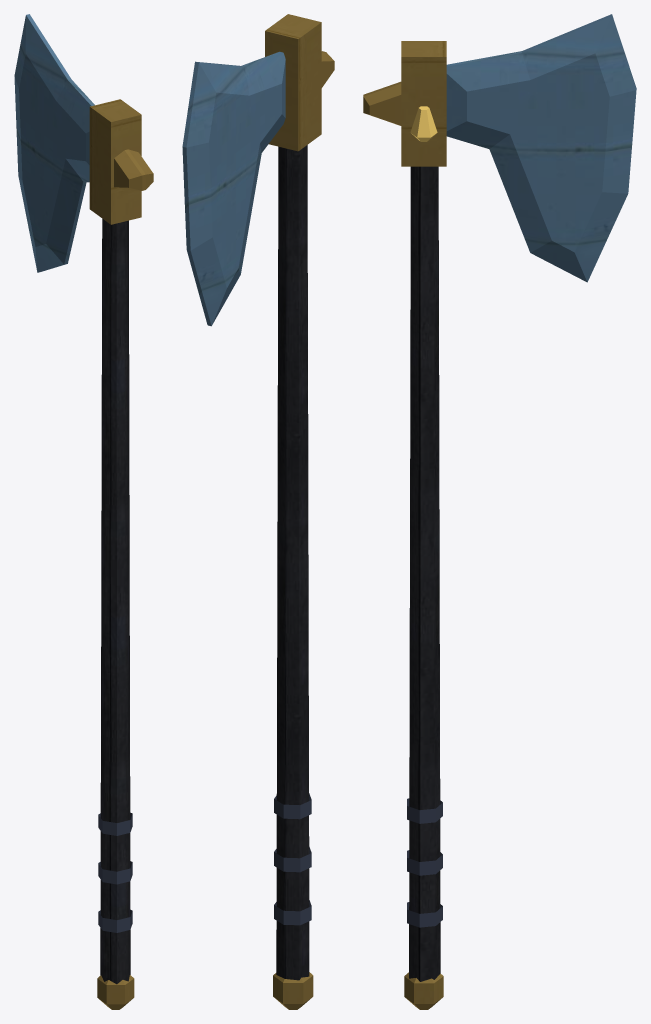
Rendered from wpn_axe_rare.glb.
3 views of the same model, side by side, from view 1: azimuth 30°, elevation 25°; view 2: azimuth 150°, elevation 25°; view 3: azimuth 270°, elevation 25° (orthographic). The views are drawn at different scales.
Parts seen in each view (by area): view 1: wpn_axe_rare; view 2: wpn_axe_rare; view 3: wpn_axe_rare.
Part boxes in pixels (bbox=[...]): wpn_axe_rare: bbox=[14, 14, 153, 1009]; wpn_axe_rare: bbox=[182, 14, 334, 1009]; wpn_axe_rare: bbox=[363, 14, 636, 1009].
Bounding box in the file's own units: 0.0706 × 1.45 × 0.3608.
Materials: 5 (5 with a texture image).
